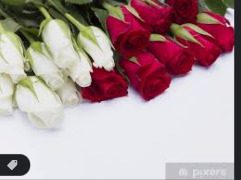RedRose: (124, 55, 173, 100)
